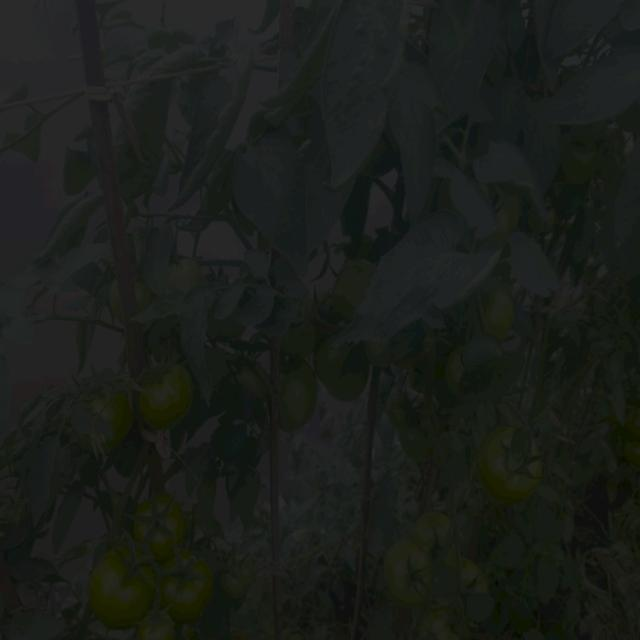tomato: (481, 428, 546, 502), (140, 361, 200, 435), (94, 556, 154, 625), (163, 551, 216, 622), (132, 488, 188, 554), (384, 543, 428, 608), (335, 255, 377, 320), (286, 363, 325, 431), (95, 380, 131, 450), (321, 358, 368, 399), (223, 546, 257, 602), (417, 512, 456, 556), (572, 134, 605, 185), (483, 286, 513, 339), (503, 194, 537, 236), (137, 608, 178, 640), (422, 608, 462, 640), (173, 253, 202, 295), (106, 281, 127, 327), (462, 562, 488, 597), (404, 421, 428, 453), (449, 353, 468, 390)
